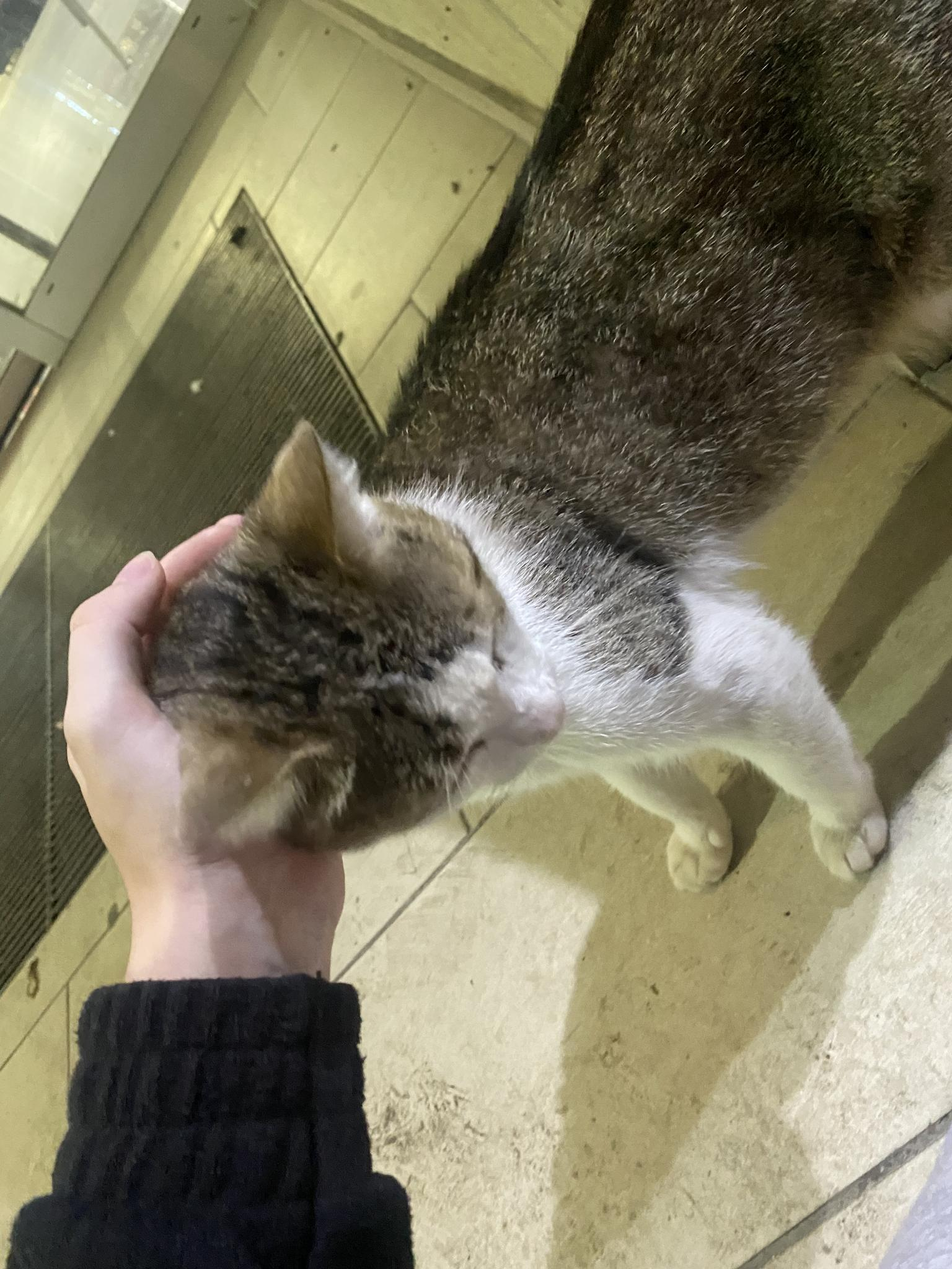macka: (137, 0, 948, 892)
